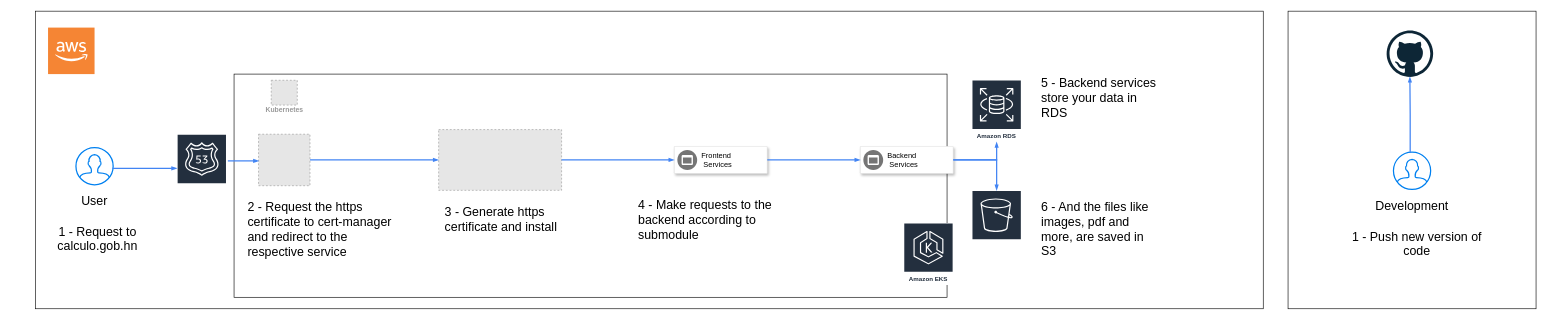
Some shapes in this 1547 by 319 pixel diagram are drawn without their labels. Grey dashed boxes stand in for pictures. Each missing label, with the centre of its shape:
"Amazon Route 53" goes at (201,168).
"Amazon S3" goes at (996,221).
